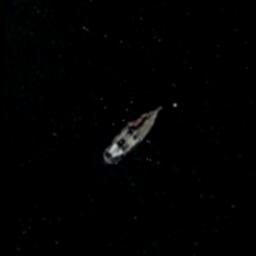boat: (100, 99, 164, 166)
